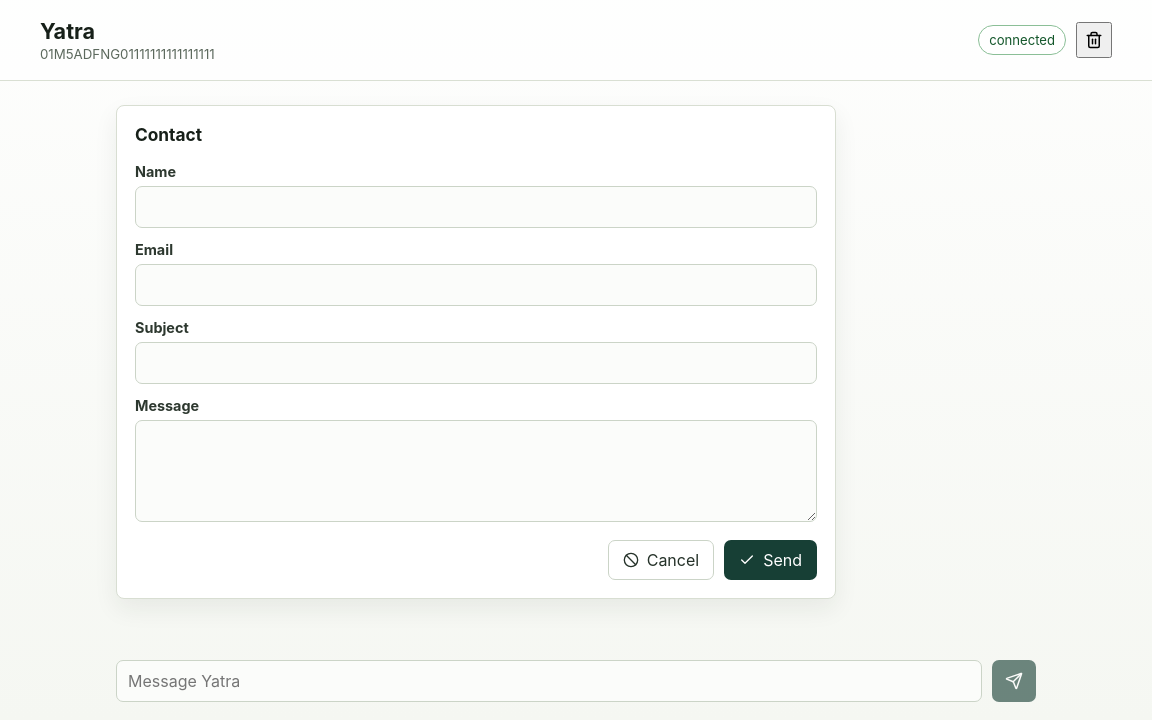
App › locks a submitted form after a valid HTTP acknowledgement
Expected: the text "connected" is shown, [978,25,1066,55]
Expected: the heading "Contact" is shown, [135,124,202,145]
Type "Siva" into the field labelled "Name" at [476, 207], box [135,186,817,228]
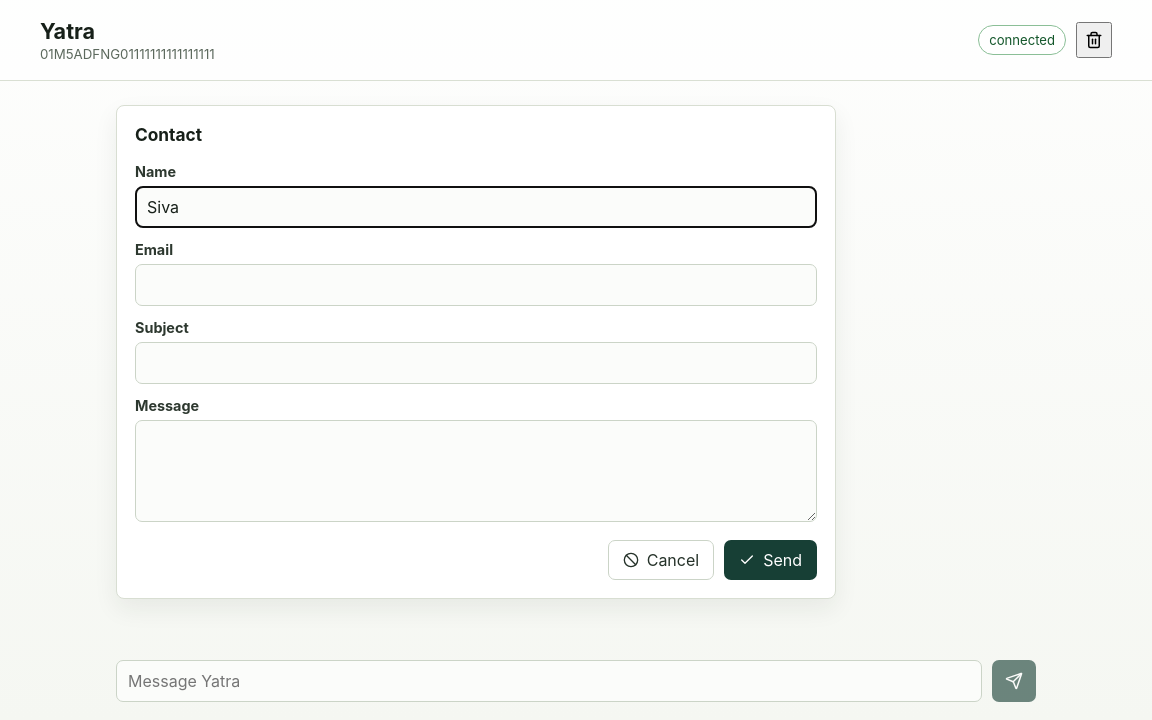
Type "siva@example.com" into the field labelled "Email" at [476, 285], box [135,264,817,306]
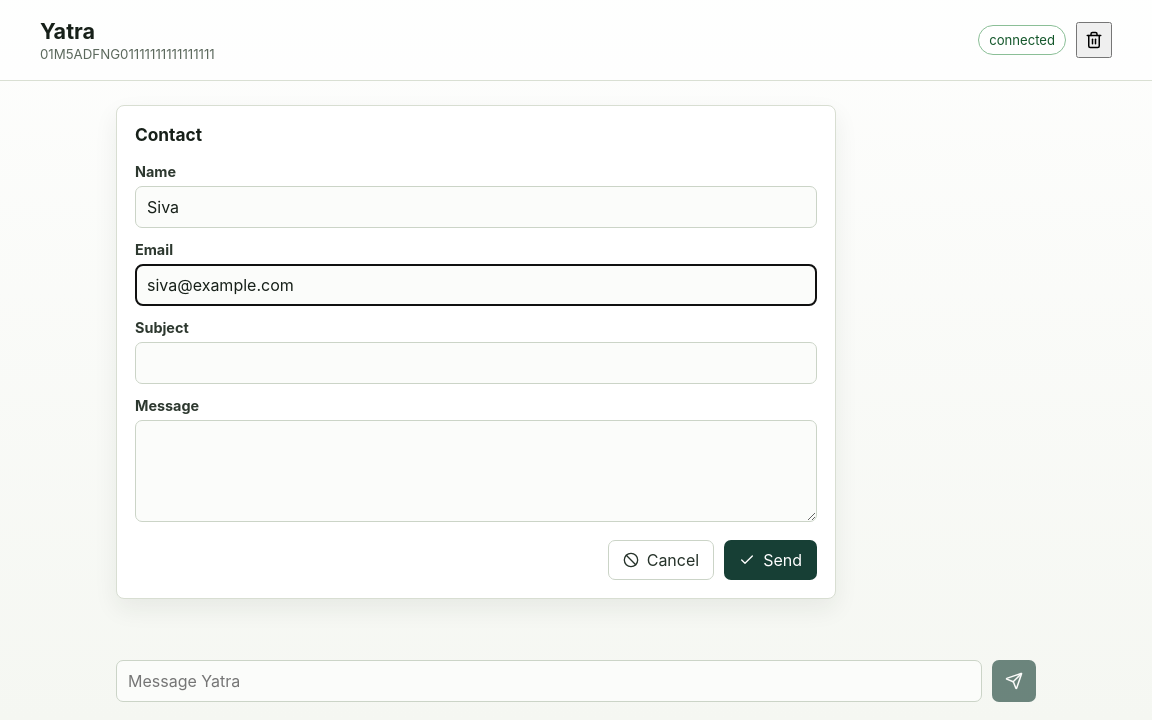
Type "Hello" into the field labelled "Subject" at [476, 363], box [135,342,817,384]
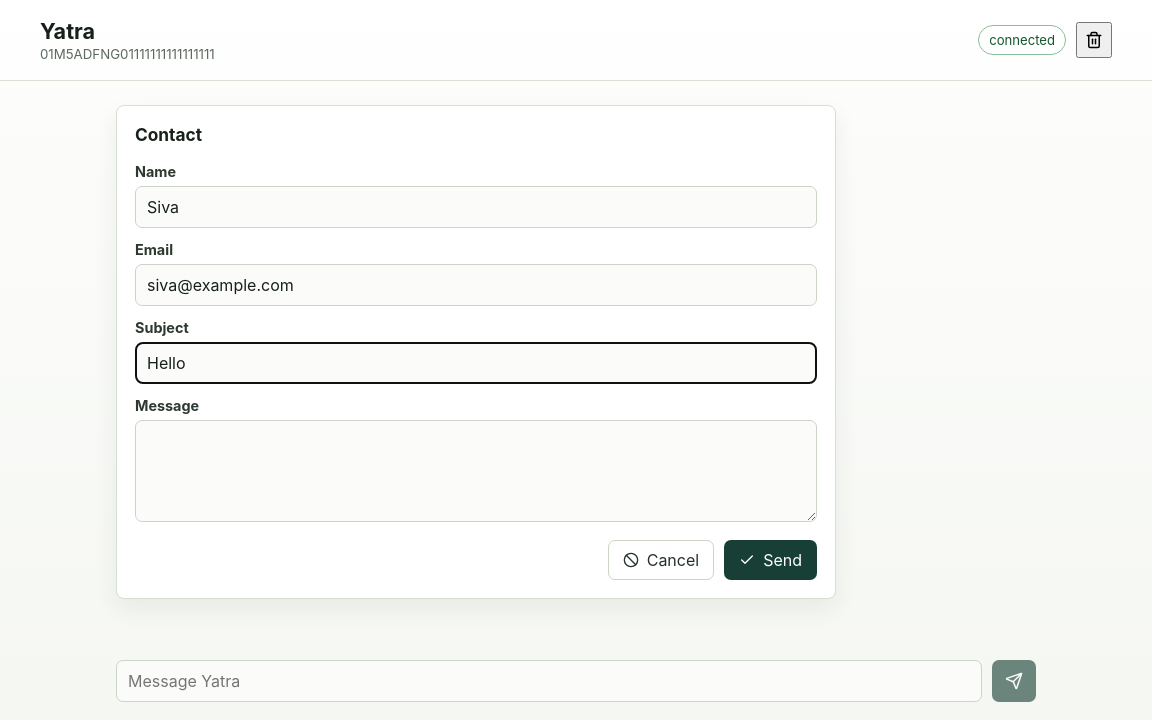
Type "Need help" into the text box labelled "Message" at [476, 471], box [135,420,817,522]
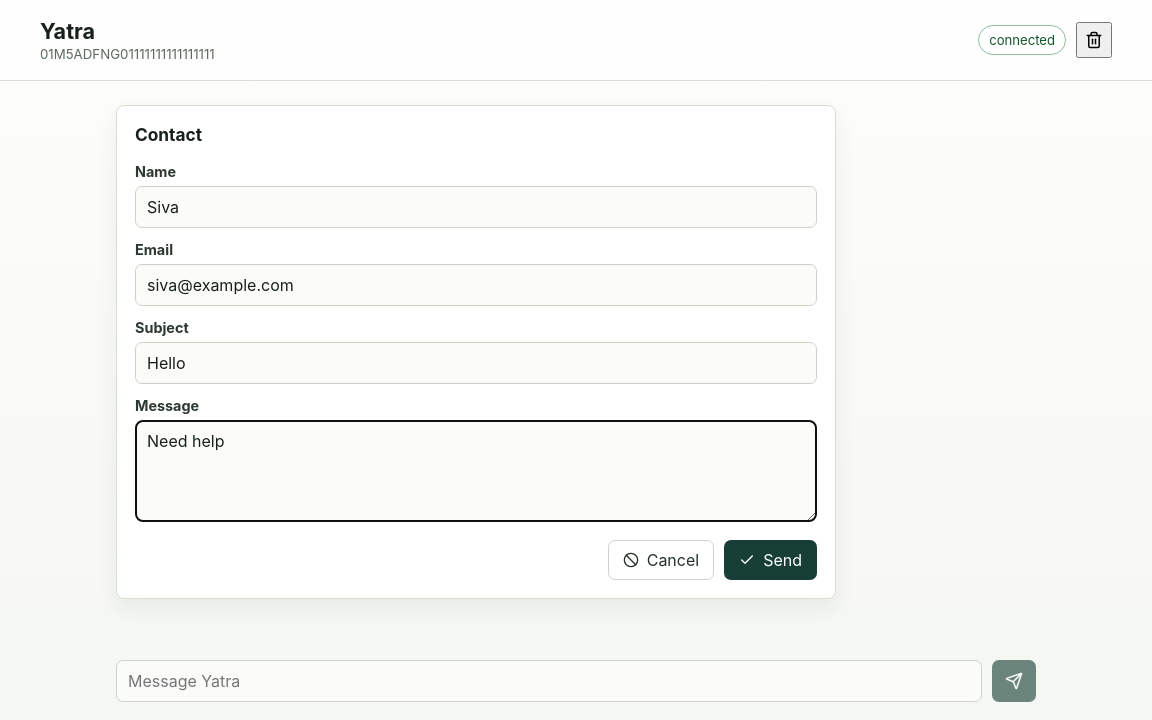
Click the button "Send" at [771, 560], box [724,540,817,580]
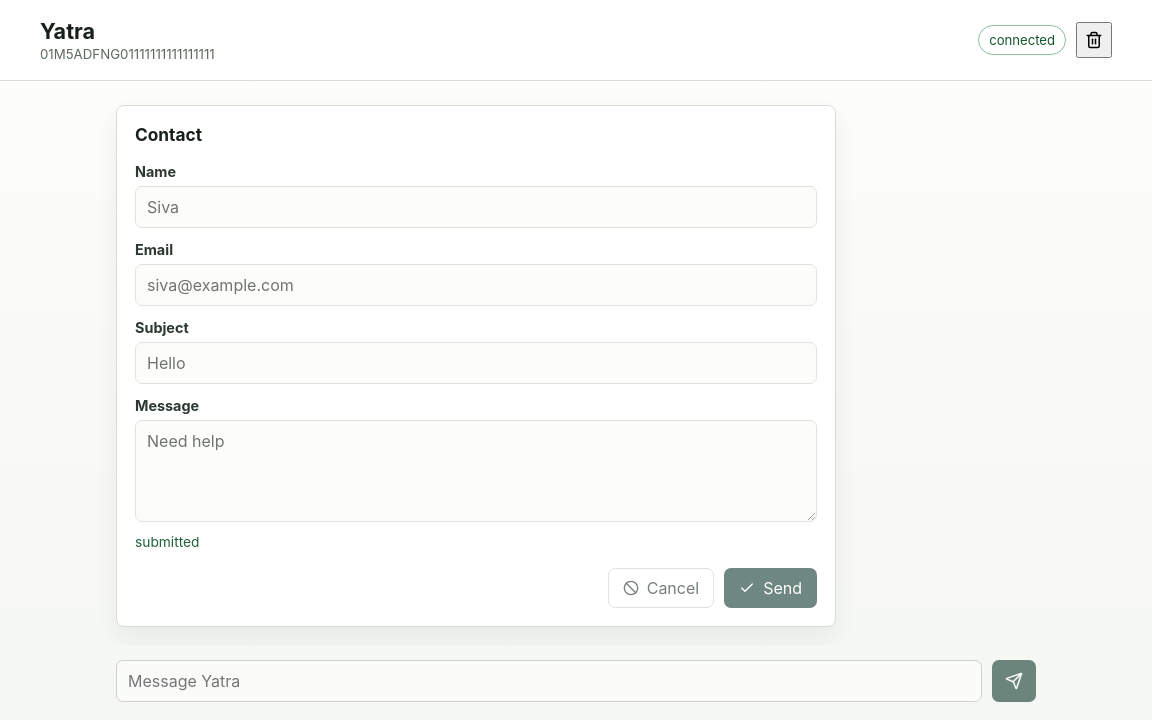
Now the text "submitted" is shown, box [135,534,200,550]
Now the button "Send" is disabled, box [724,568,817,608]
